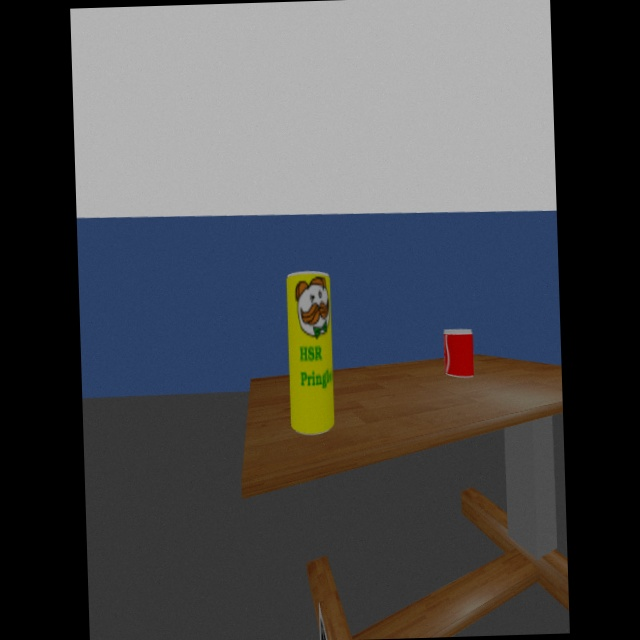chipsdose_gelb: (286, 270, 334, 436)
